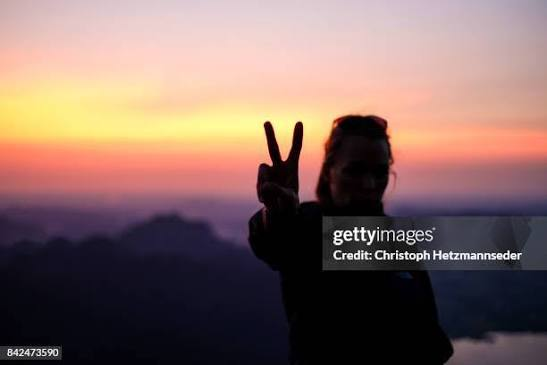peace_sign: (252, 115, 310, 217)
